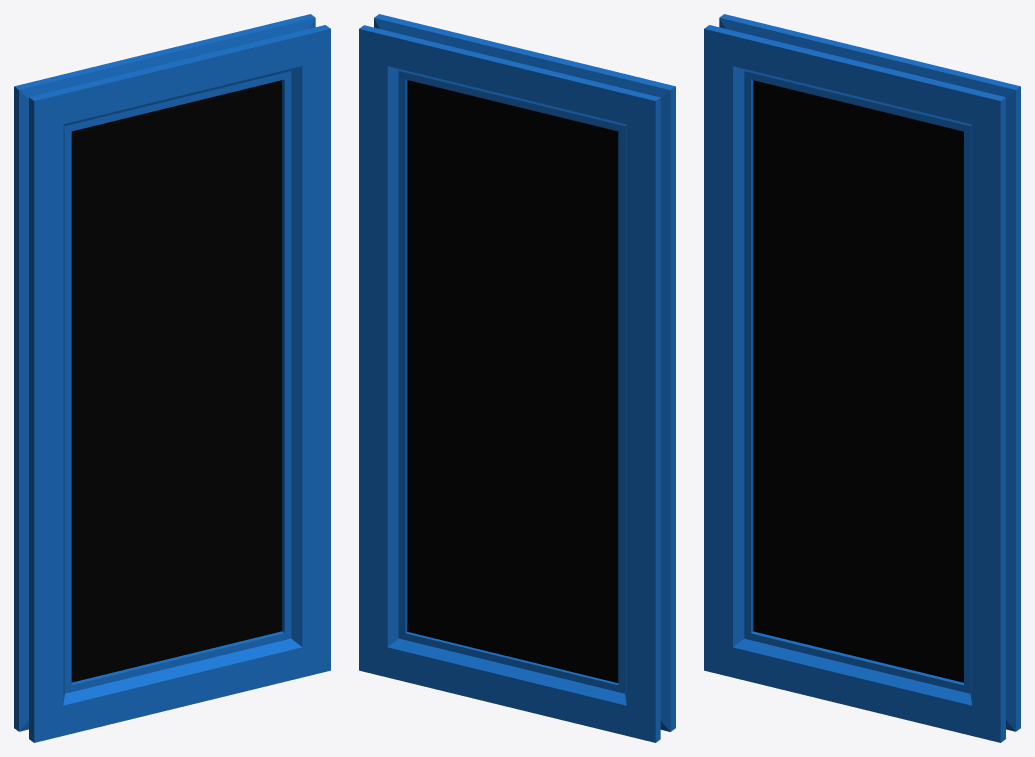
Rendered from space_window.fbx.
3 views of the same model, side by side, from view 1: azimuth 30°, elevation 25°; view 2: azimuth 150°, elevation 25°; view 3: azimuth 330°, elevation 25° (orthographic).
Parts seen in each view (by area): view 1: Cube_89; view 2: Cube_89; view 3: Cube_89.
Boxes of the visible parts, x1=… form: Cube_89: x1=14, y1=14, x2=330, y2=742; Cube_89: x1=359, y1=14, x2=675, y2=742; Cube_89: x1=704, y1=14, x2=1020, y2=742.
Bounding box in the file's own units: 67.72 × 140 × 8.
